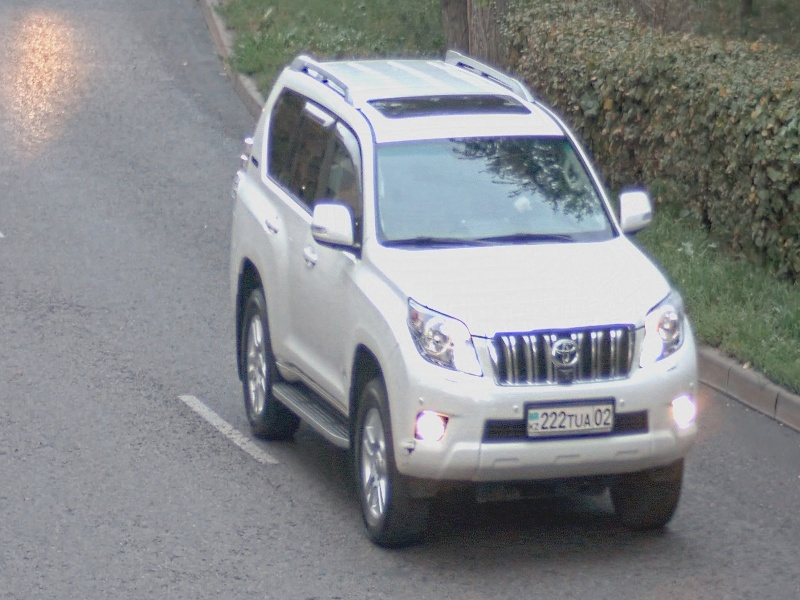plate: (525, 400, 615, 439)
